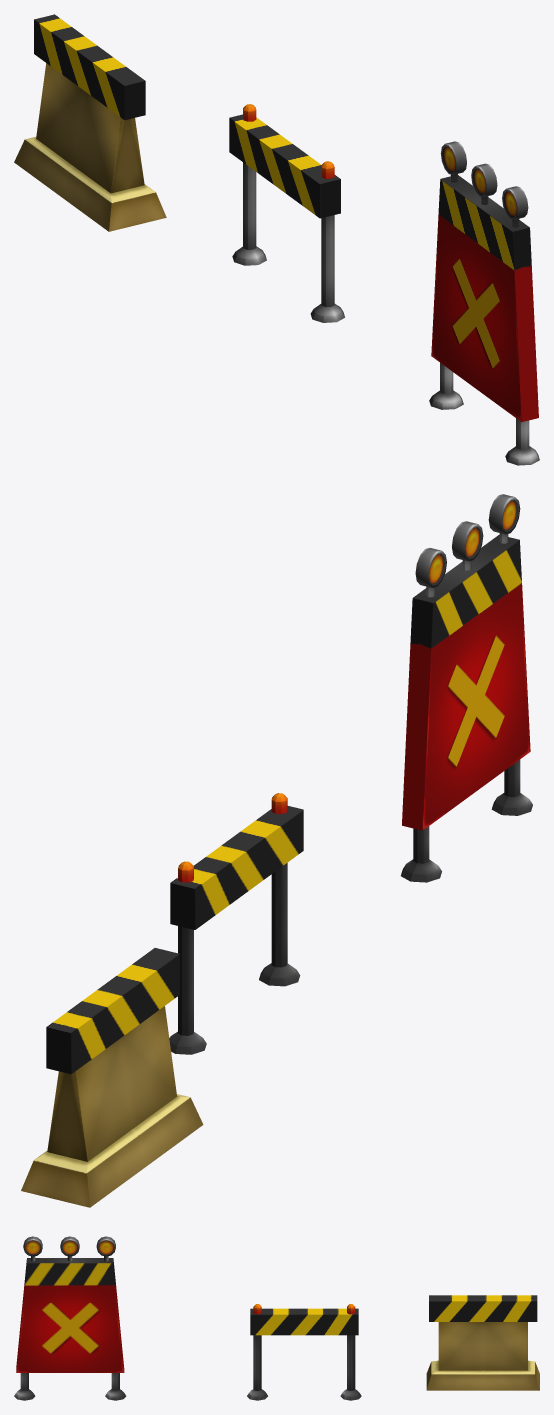
Rendered from Raochan.fbx.
The picture shows the model from 3 angles, top to bottom: view 1: azimuth 30°, elevation 25°; view 2: azimuth 150°, elevation 25°; view 3: azimuth 270°, elevation 25°; orthographic projection. The views are drawn at different scales.
Parts seen in each view (by area): view 1: RRaochan3, Raochan1, Raochan2; view 2: RRaochan3, Raochan1, Raochan2; view 3: RRaochan3, Raochan1, Raochan2.
Boxes of the visible parts, x1,y1,x2,y2 form: RRaochan3: [429, 141, 539, 465]; Raochan1: [14, 14, 166, 231]; Raochan2: [229, 104, 344, 322]; RRaochan3: [401, 494, 532, 882]; Raochan1: [21, 948, 203, 1207]; Raochan2: [169, 793, 303, 1054]; RRaochan3: [14, 1236, 126, 1400]; Raochan1: [426, 1295, 539, 1390]; Raochan2: [247, 1304, 361, 1400].
Size of the model in its own units: 1.65 by 4.5 by 13.51.
